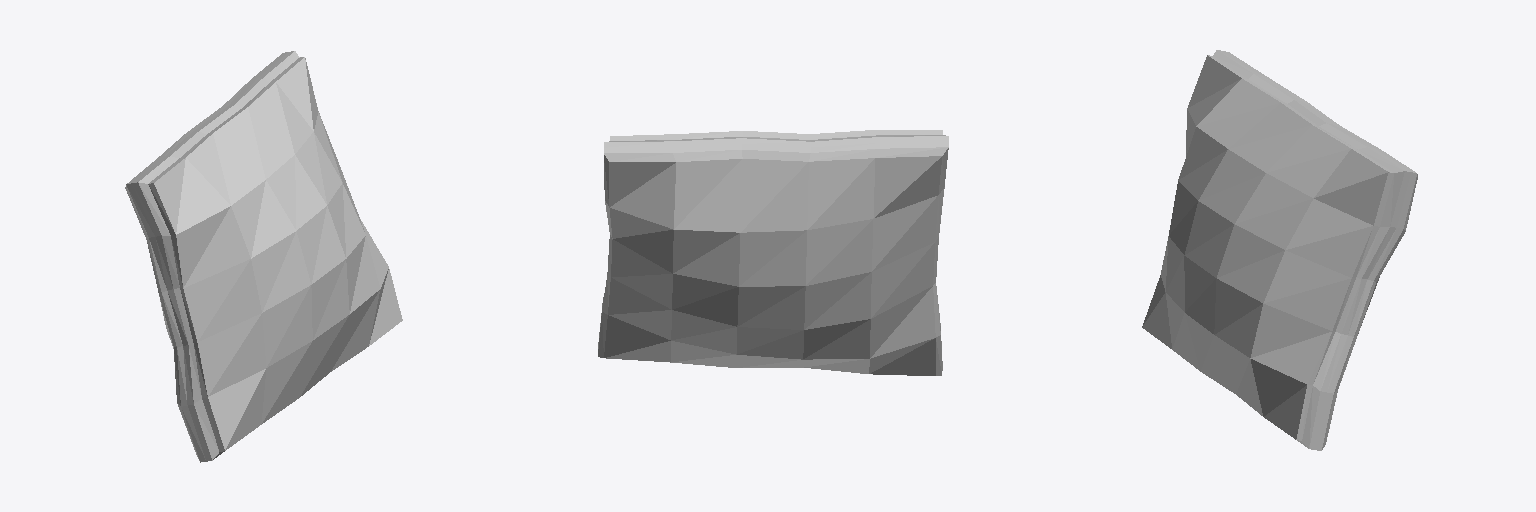
Rendered from sofaPillow.obj.
3 views of the same model, side by side, from view 1: azimuth 30°, elevation 25°; view 2: azimuth 150°, elevation 25°; view 3: azimuth 270°, elevation 25° (orthographic).
Parts seen in each view (by area): view 1: pillow1; view 2: pillow1; view 3: pillow1.
Part boxes in pixels (x1,y1,x2,y2): pillow1: (125,51,402,462); pillow1: (598,130,948,375); pillow1: (1142,50,1417,450).
Bounding box in the file's own units: 81.64 × 67.87 × 62.86.